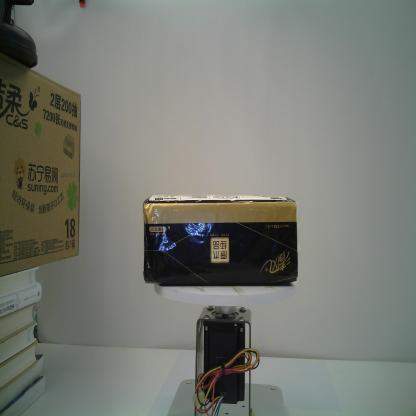Tissue: (143, 193, 299, 287)
